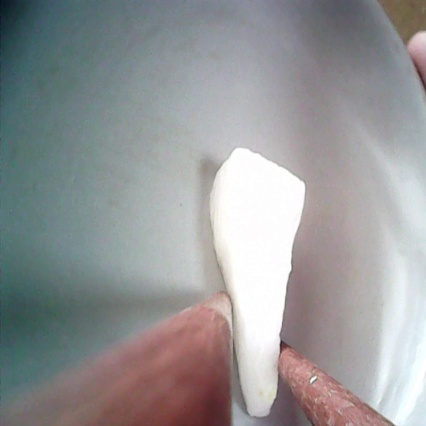white_chinese-yam: (207, 145, 314, 421)
